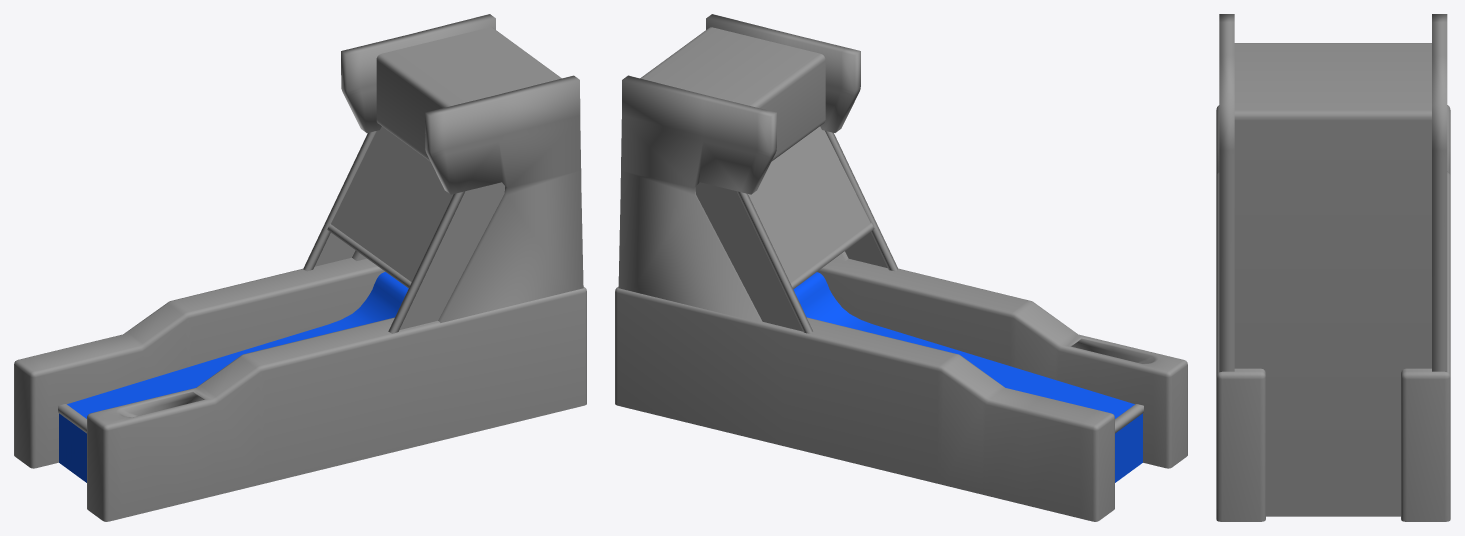
The model's file is SM_SkeeballMachine.FBX.
The picture shows the model from 3 angles, left to right: view 1: azimuth 30°, elevation 25°; view 2: azimuth 150°, elevation 25°; view 3: azimuth 270°, elevation 25°; orthographic projection. The views are drawn at different scales.
Visible parts, largest first — view 1: Side1_LP, Skiside_LP, Side2_LP, Cage2_LP (×2), Display_LP, Cage_LP (×2), Carpet_LP, Skiside2_LP, Cage3_LP; view 2: Side2_LP, Skiside2_LP, Side1_LP, Cage2_LP (×2), Display_LP, Cage_LP (×2), Carpet_LP, Skiside_LP, Cage3_LP; view 3: Display_LP, Side1_LP, Side2_LP, Skiside_LP, Skiside2_LP.
Part boxes in pixels (x1,y1,x2,y2): Side1_LP: [87, 287, 586, 521]; Skiside_LP: [425, 75, 583, 322]; Side2_LP: [14, 257, 384, 468]; Cage2_LP (×2): [331, 126, 464, 333]; Display_LP: [376, 27, 561, 161]; Cage_LP (×2): [303, 131, 504, 329]; Carpet_LP: [59, 272, 408, 482]; Skiside2_LP: [341, 14, 495, 260]; Cage3_LP: [327, 224, 411, 288]; Side2_LP: [615, 286, 1114, 521]; Skiside2_LP: [618, 75, 776, 322]; Side1_LP: [817, 258, 1187, 468]; Cage2_LP (×2): [748, 126, 898, 282]; Display_LP: [640, 27, 825, 161]; Cage_LP (×2): [695, 182, 887, 333]; Carpet_LP: [793, 272, 1142, 482]; Skiside_LP: [706, 14, 860, 260]; Cage3_LP: [790, 223, 874, 288]; Display_LP: [1234, 43, 1431, 516]; Side1_LP: [1216, 105, 1265, 521]; Side2_LP: [1401, 105, 1450, 521]; Skiside_LP: [1219, 14, 1234, 372]; Skiside2_LP: [1432, 14, 1447, 371].
Bounding box in the file's own units: 369 × 238 × 122.
